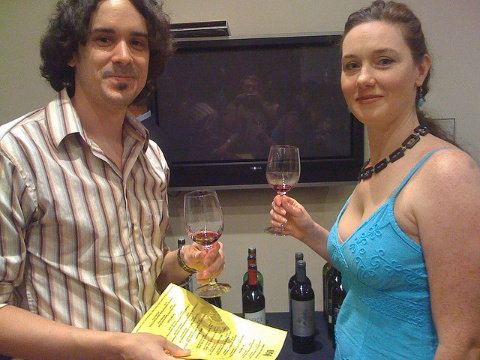hand: (267, 195, 308, 239)
